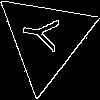Y: (20, 13, 68, 54)
